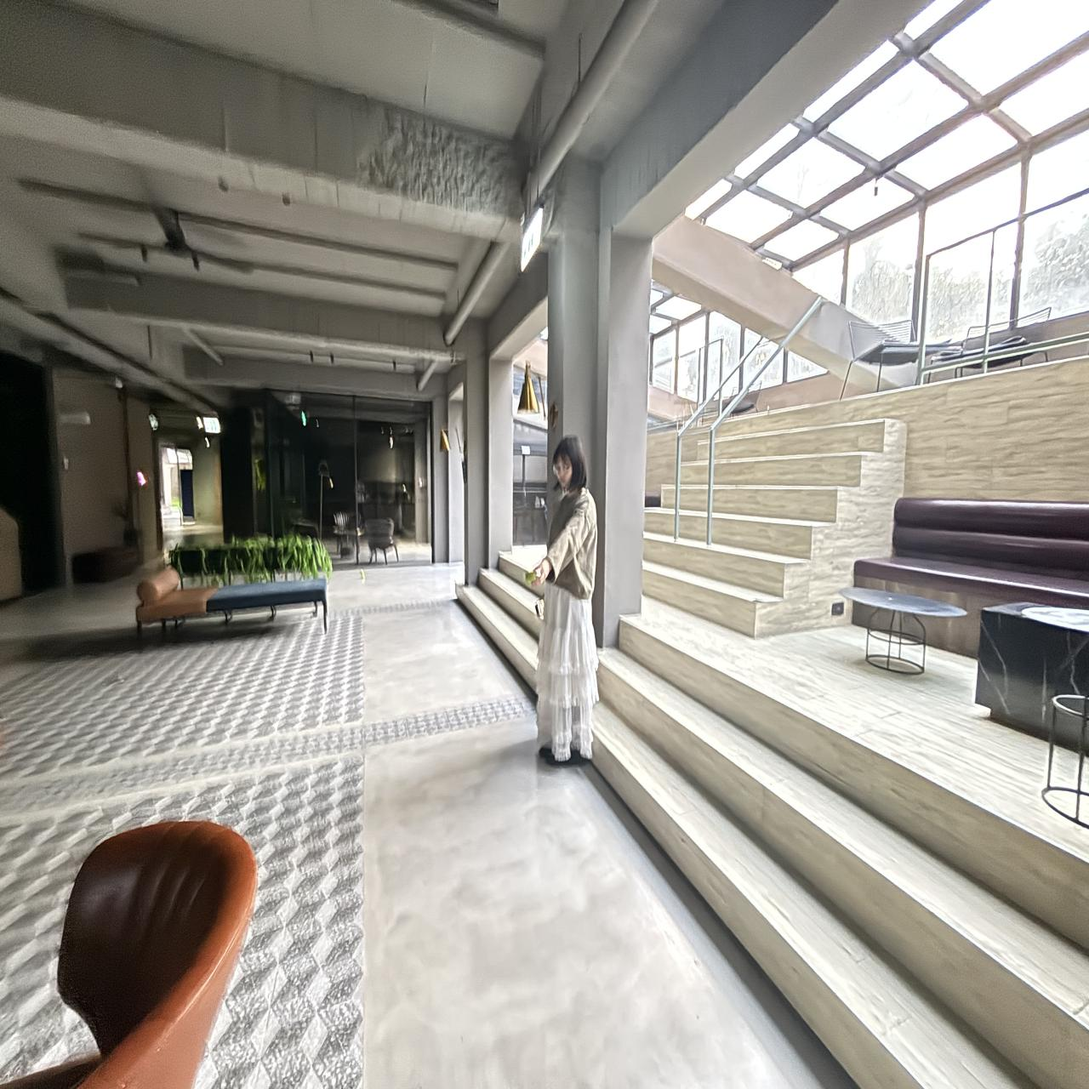person: (534, 436, 598, 764)
tennisball: (524, 572, 533, 584)
